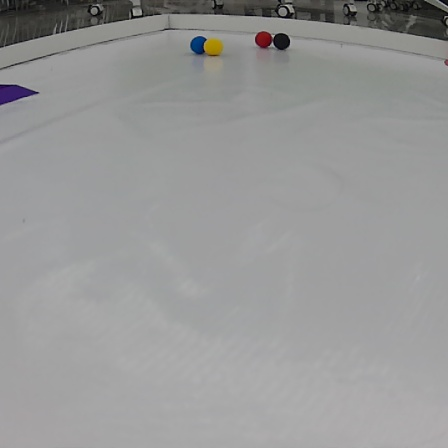black: (271, 30, 294, 51)
blue: (189, 35, 211, 56)
red: (253, 27, 274, 49)
yellow: (203, 37, 223, 58)
